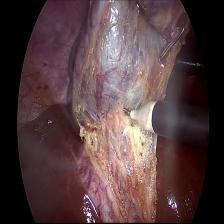Hook: (121, 98, 157, 138)
